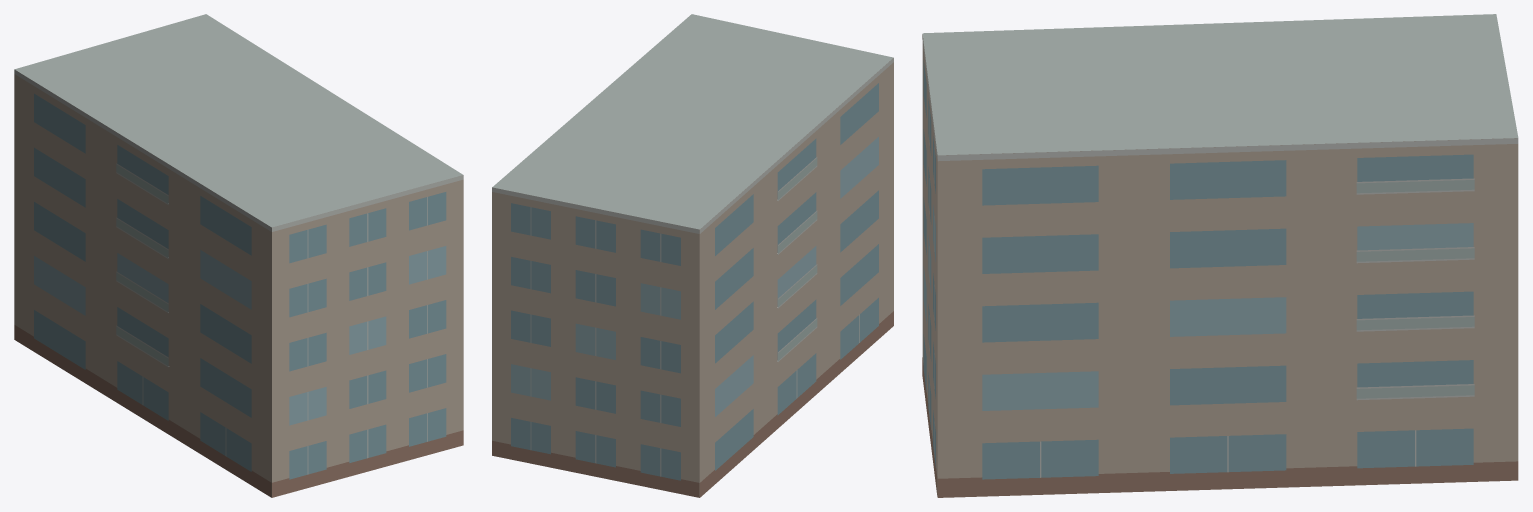
Rendered from survey-upis-33021523.glb.
3 views of the same model, side by side, from view 1: azimuth 30°, elevation 25°; view 2: azimuth 150°, elevation 25°; view 3: azimuth 270°, elevation 25° (orthographic). The views are drawn at different scales.
Parts seen in each view (by area): view 1: survey-upis-33021523.tmp; view 2: survey-upis-33021523.tmp; view 3: survey-upis-33021523.tmp.
Boxes of the visible parts, x1=… form: survey-upis-33021523.tmp: x1=14, y1=14, x2=463, y2=497; survey-upis-33021523.tmp: x1=492, y1=14, x2=893, y2=497; survey-upis-33021523.tmp: x1=922, y1=14, x2=1518, y2=497.
Bounding box in the file's own units: 12.76 × 14.4 × 22.72.
